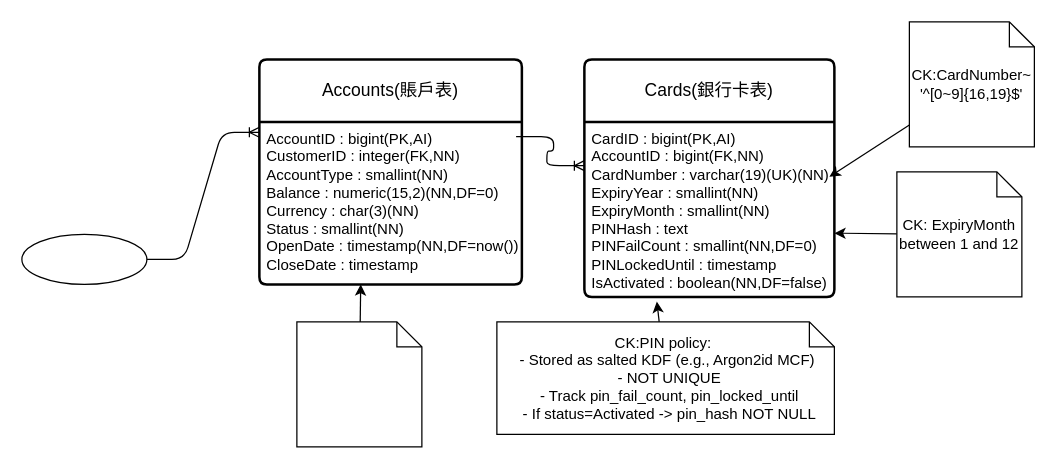
The diagram is 1056 pixels wide and 469 high, and some of its shapes have lost their labels. The box of each missing label's shape, as (x1, y1, x2, y2) in pixels:
CK:CloseDate is null or CloseDate >= OpenDate: (296, 321, 422, 447)
Customers: (21, 233, 147, 284)
